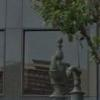Statue: (42, 31, 82, 98)
